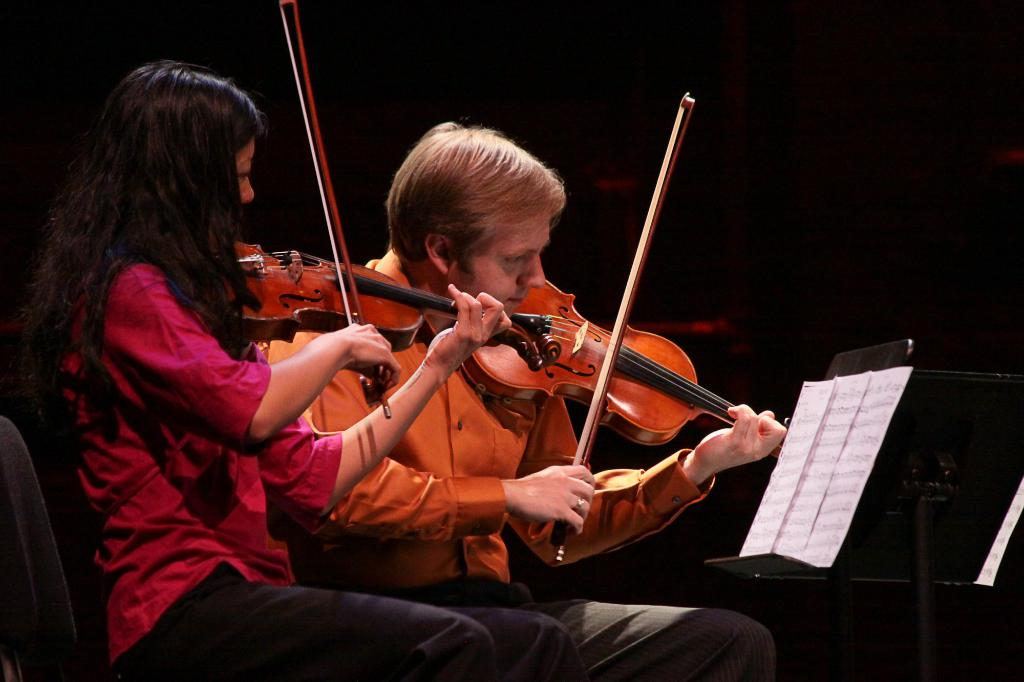Person: (0, 59, 588, 682)
